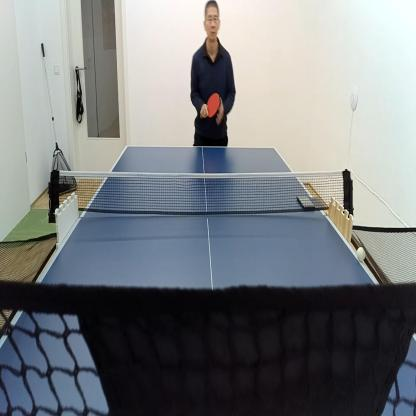Ball: (356, 244, 367, 264)
